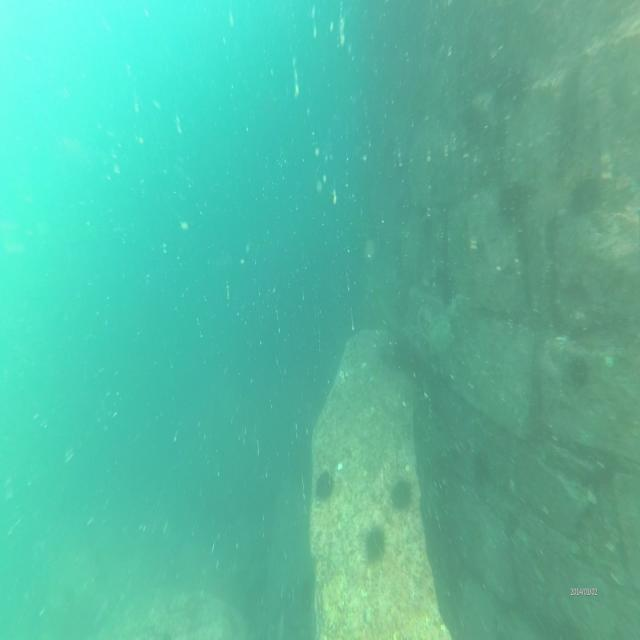echinus: (566, 173, 612, 219), (386, 478, 413, 514), (562, 357, 592, 388), (316, 470, 336, 505), (365, 524, 384, 558)
